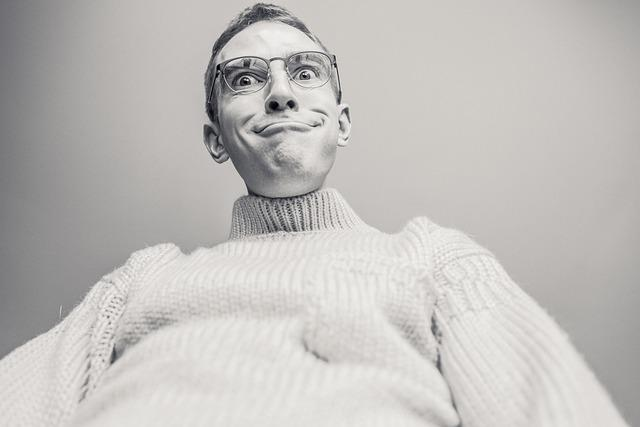Non_Gorille: (29, 9, 621, 427)
